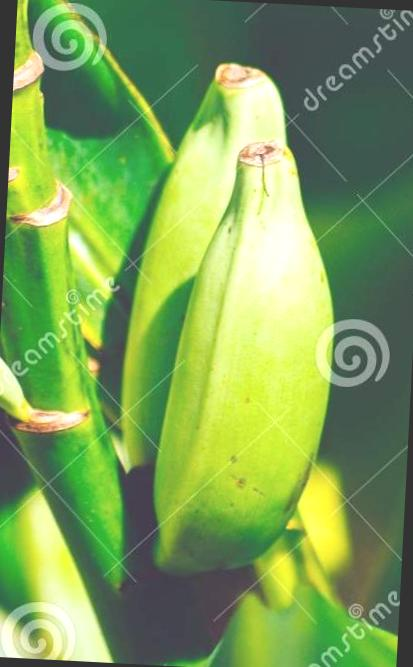Banana Unripe: (76, 51, 350, 593)
